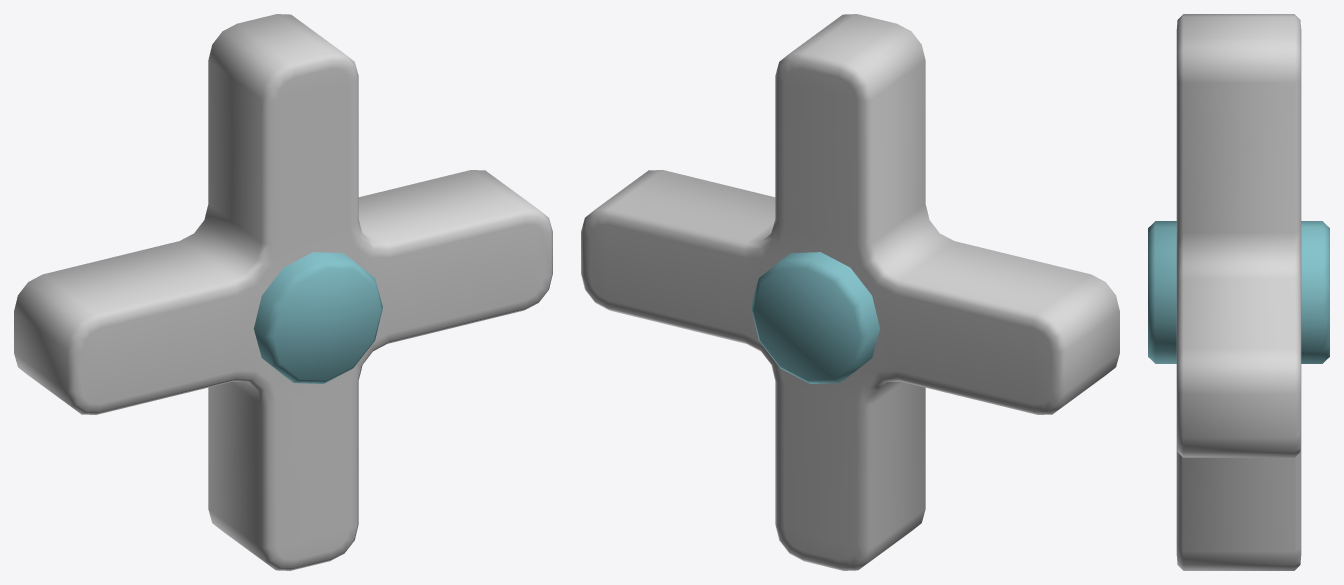
File: Blade.FBX
3 views of the same model, side by side, from view 1: azimuth 30°, elevation 25°; view 2: azimuth 150°, elevation 25°; view 3: azimuth 270°, elevation 25° (orthographic). The views are drawn at different scales.
Visible parts, largest first — view 1: Rectangle002, ChamferCyl002; view 2: Rectangle002, ChamferCyl002; view 3: Rectangle002, ChamferCyl002.
Boxes of the visible parts, x1=… form: Rectangle002: x1=14, y1=14, x2=552, y2=570; ChamferCyl002: x1=254, y1=252, x2=382, y2=383; Rectangle002: x1=581, y1=14, x2=1119, y2=570; ChamferCyl002: x1=751, y1=252, x2=879, y2=383; Rectangle002: x1=1176, y1=14, x2=1301, y2=570; ChamferCyl002: x1=1148, y1=221, x2=1329, y2=363.
Size of the model in its own units: 100 by 100 by 31.08.
